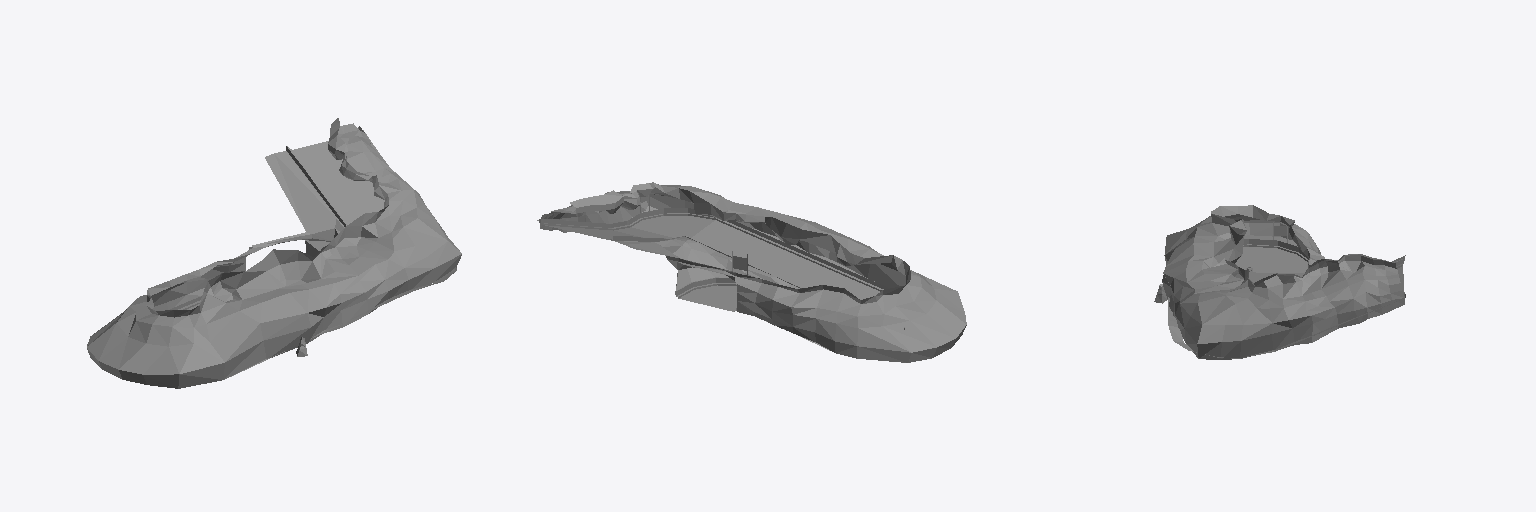
3 renders of one model, left to right at view 1: azimuth 30°, elevation 25°; view 2: azimuth 150°, elevation 25°; view 3: azimuth 270°, elevation 25°, orthographic.
Parts seen in each view (by area): view 1: E_SnowA_Terrain_05; view 2: E_SnowA_Terrain_05; view 3: E_SnowA_Terrain_05.
Boxes of the visible parts, box(x1,y1,x2,y2) form: E_SnowA_Terrain_05: box(87, 118, 461, 388); E_SnowA_Terrain_05: box(537, 182, 966, 362); E_SnowA_Terrain_05: box(1154, 205, 1405, 359).
Size of the model in its own units: 311 by 106 by 196.